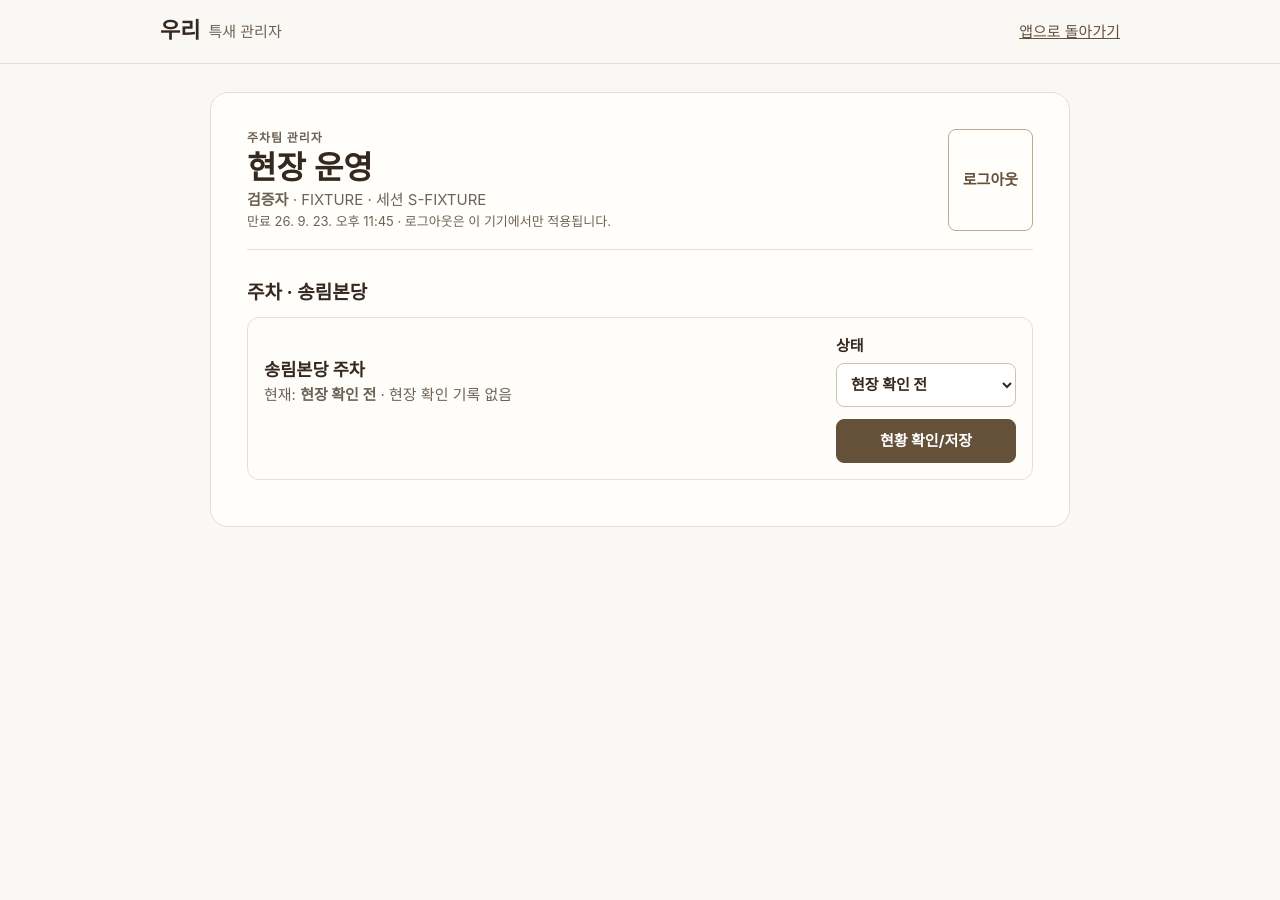
it: keeps logout effective when an overlapping operations poll resolves afterward
Check: the dropdown named "송림본당 주차 상태" is shown, box [836, 363, 1016, 407]
Click the button "로그아웃" at (990,180), box [948, 129, 1033, 231]
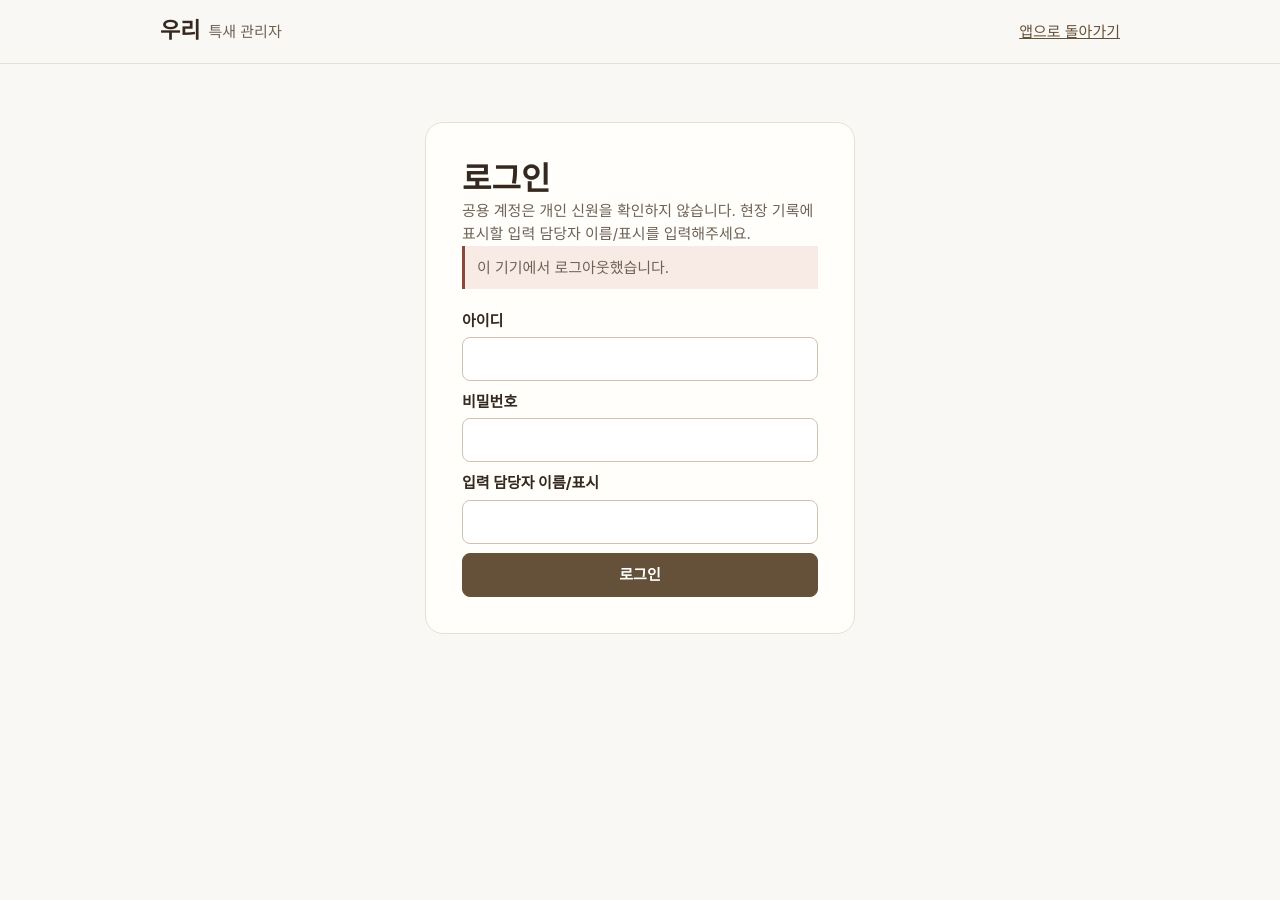
Check: the heading "로그인" is shown, box [462, 161, 550, 197]
Check: the heading "현장 운영" is gone
